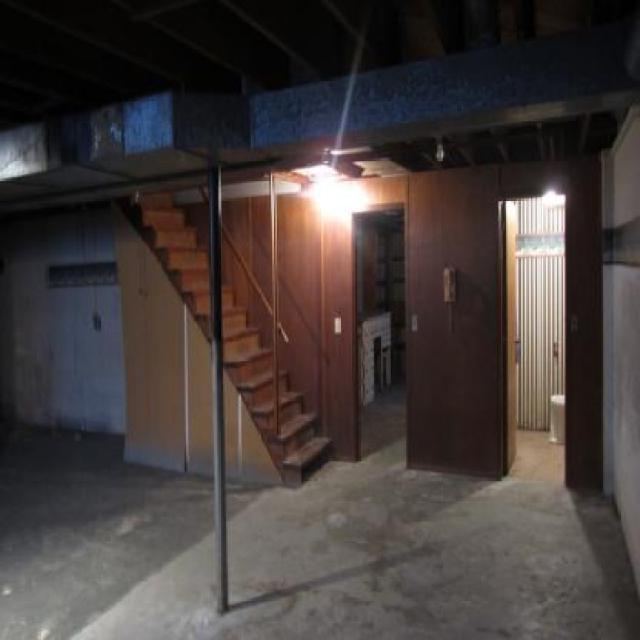stair: (130, 192, 332, 490)
